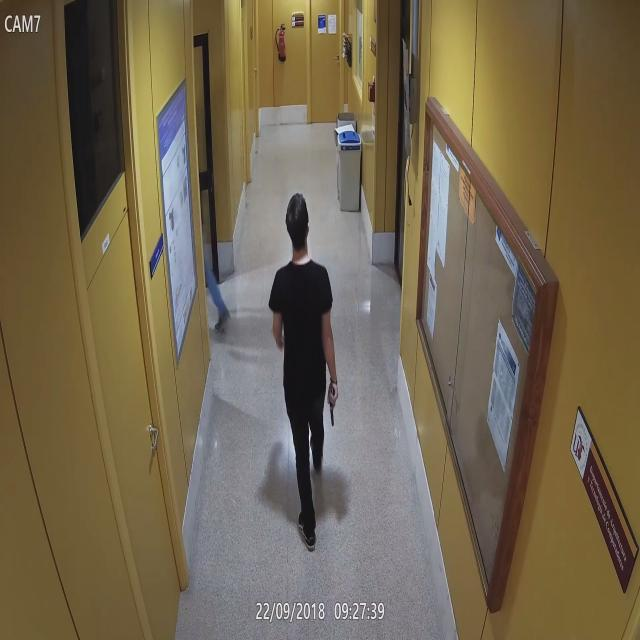Gun: (322, 378, 352, 434)
